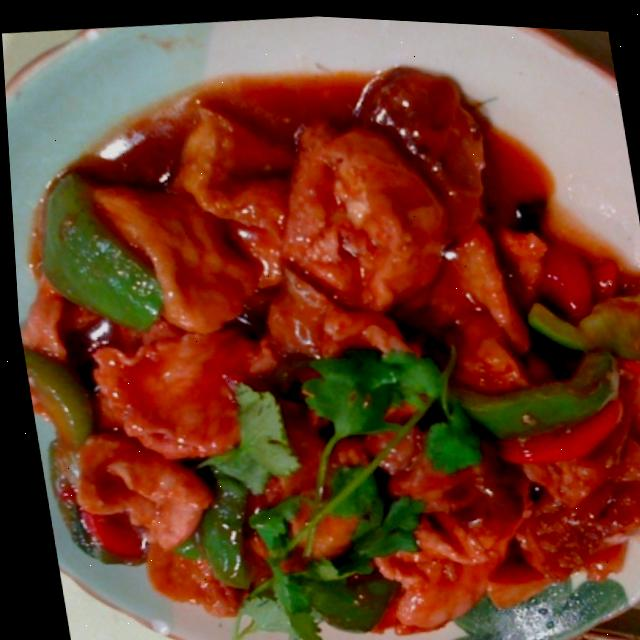豆腐料理: (0, 3, 640, 640)
